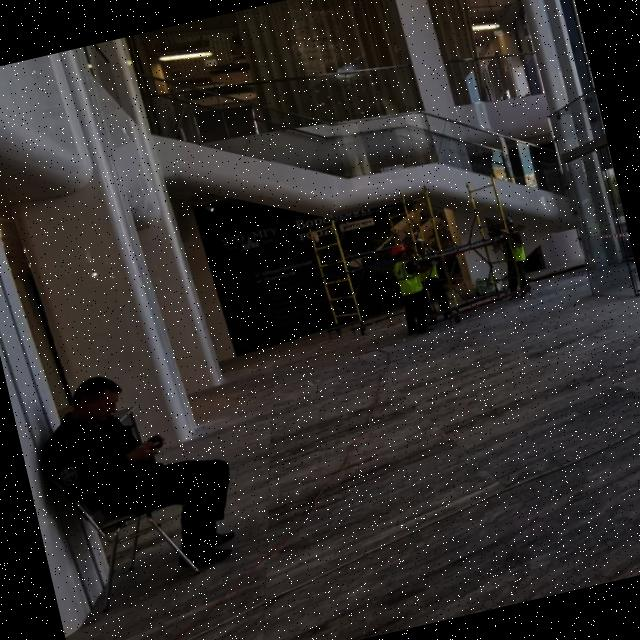Helmet: (391, 243, 411, 263), (500, 216, 517, 233), (414, 238, 429, 253)
NoHelmet: (63, 370, 131, 431)
